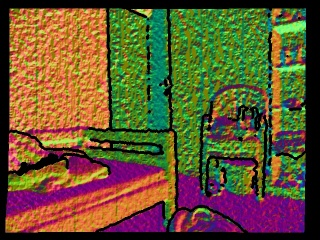station: (235, 106, 258, 139)
